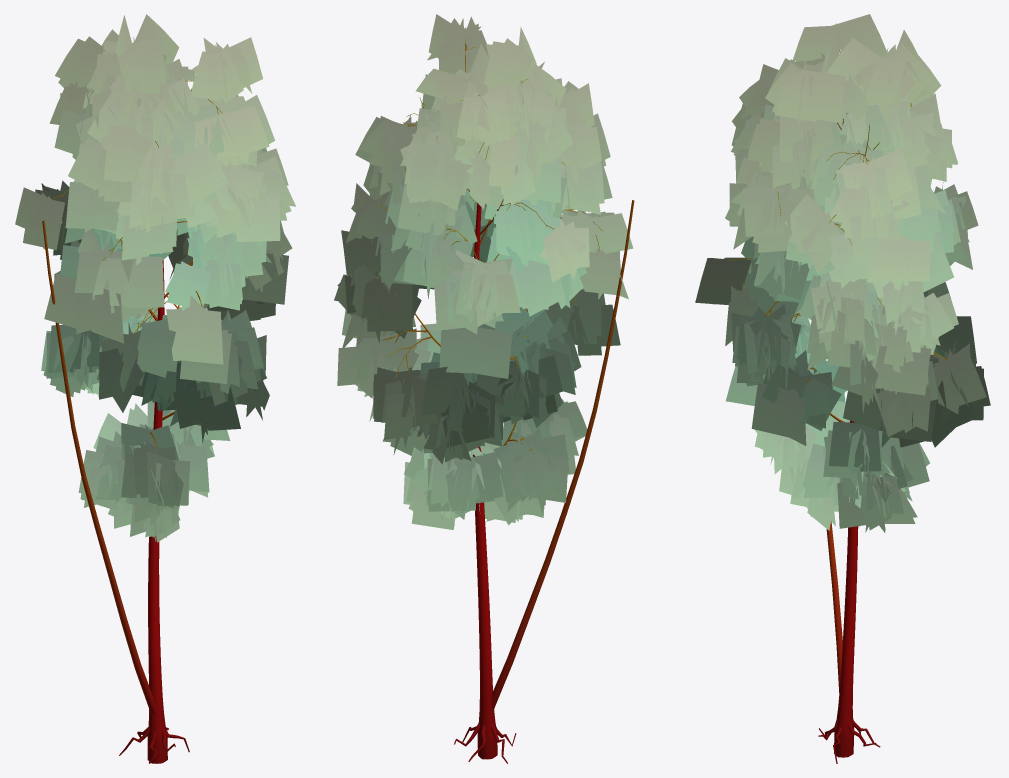
Rendered from birch_b.glb.
3 views of the same model, side by side, from view 1: azimuth 30°, elevation 25°; view 2: azimuth 150°, elevation 25°; view 3: azimuth 270°, elevation 25° (orthographic).
Visible parts, largest first — view 1: LOD0; view 2: LOD0; view 3: LOD0.
Boxes of the visible parts, <box> form: LOD0: <box>15,14,295,763</box>; LOD0: <box>334,14,634,763</box>; LOD0: <box>695,14,990,763</box>.
Size of what is drawn, in the model's own units: 7 by 18.59 by 7.35.
